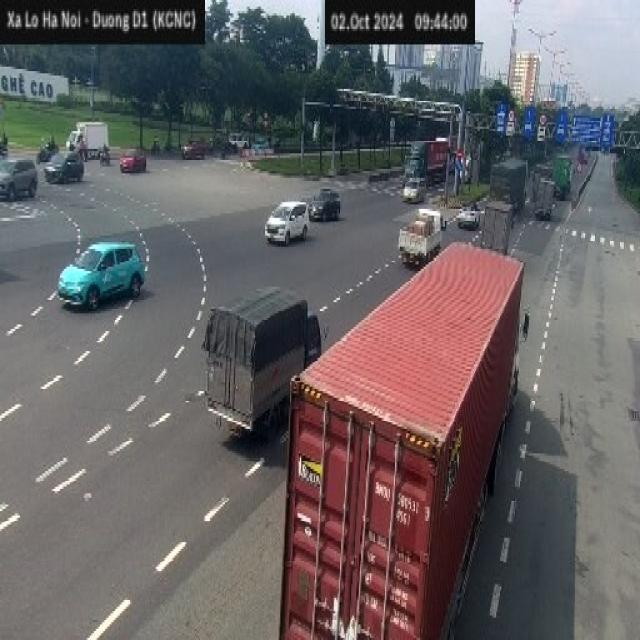car: (56, 240, 145, 311), (264, 200, 308, 244), (0, 158, 38, 200), (42, 149, 84, 182), (308, 187, 340, 220), (119, 147, 146, 171), (456, 202, 480, 229), (401, 176, 425, 202), (181, 138, 205, 158)
container-truck: (278, 235, 528, 636)
truck: (201, 284, 321, 440)
